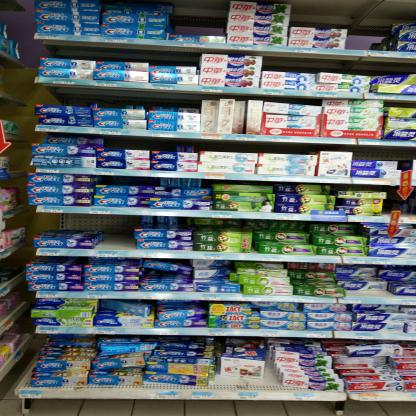Void: (266, 54, 402, 76), (177, 6, 228, 35), (209, 142, 310, 155), (98, 216, 135, 250), (350, 30, 394, 50), (41, 215, 87, 234), (110, 138, 171, 151), (358, 147, 408, 161), (102, 176, 163, 186), (388, 193, 414, 214)
